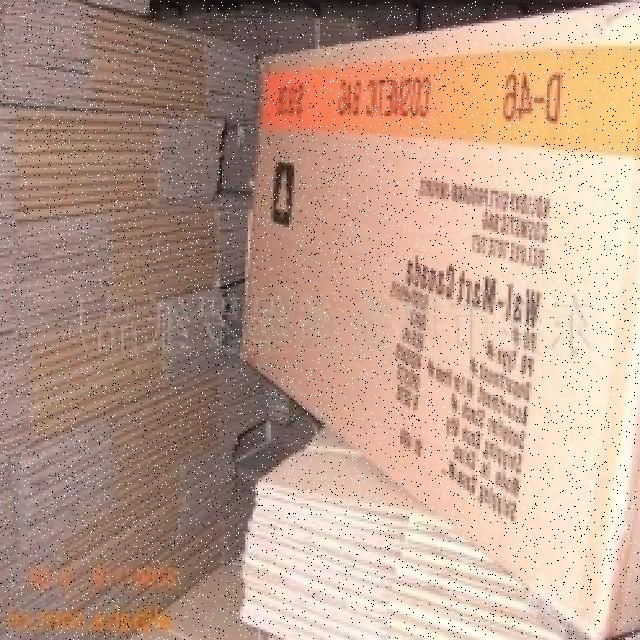box: (230, 0, 640, 629)
